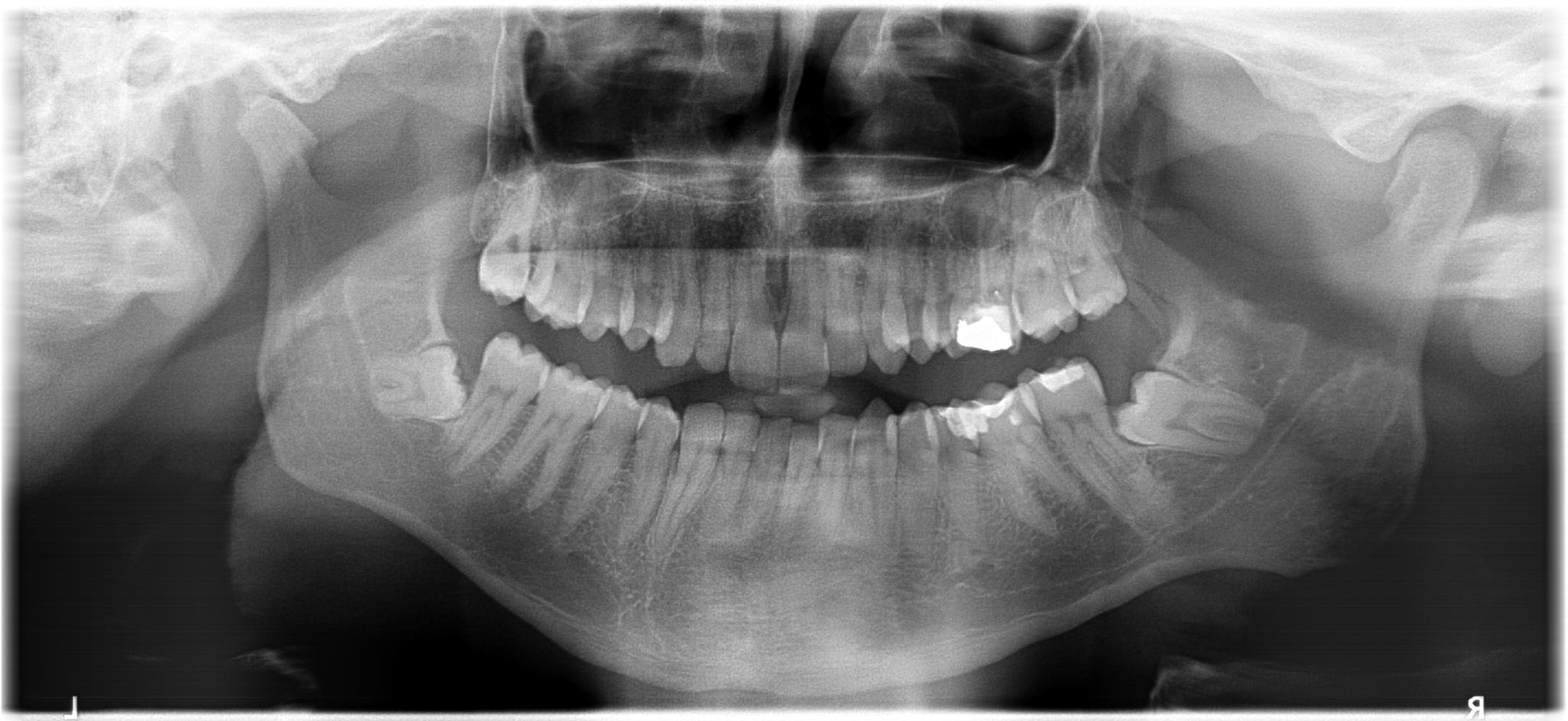Premolars: (647, 192, 1568, 547), (542, 149, 1568, 348), (237, 162, 636, 495)
